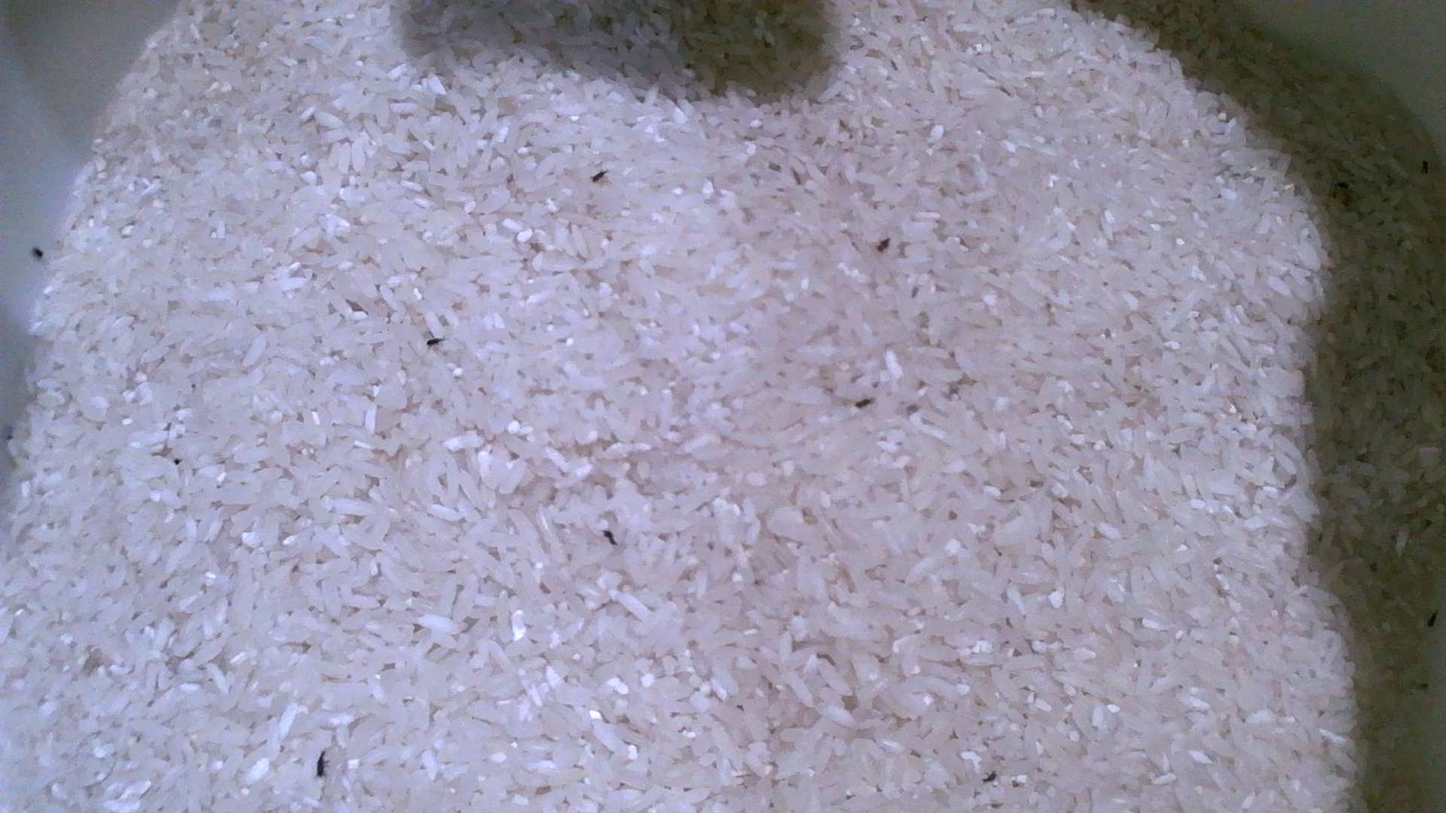Sitophilus-Oryzae: (316, 751, 325, 778), (591, 169, 607, 182), (875, 238, 890, 251), (983, 770, 999, 782), (854, 398, 874, 407), (31, 246, 44, 259)
